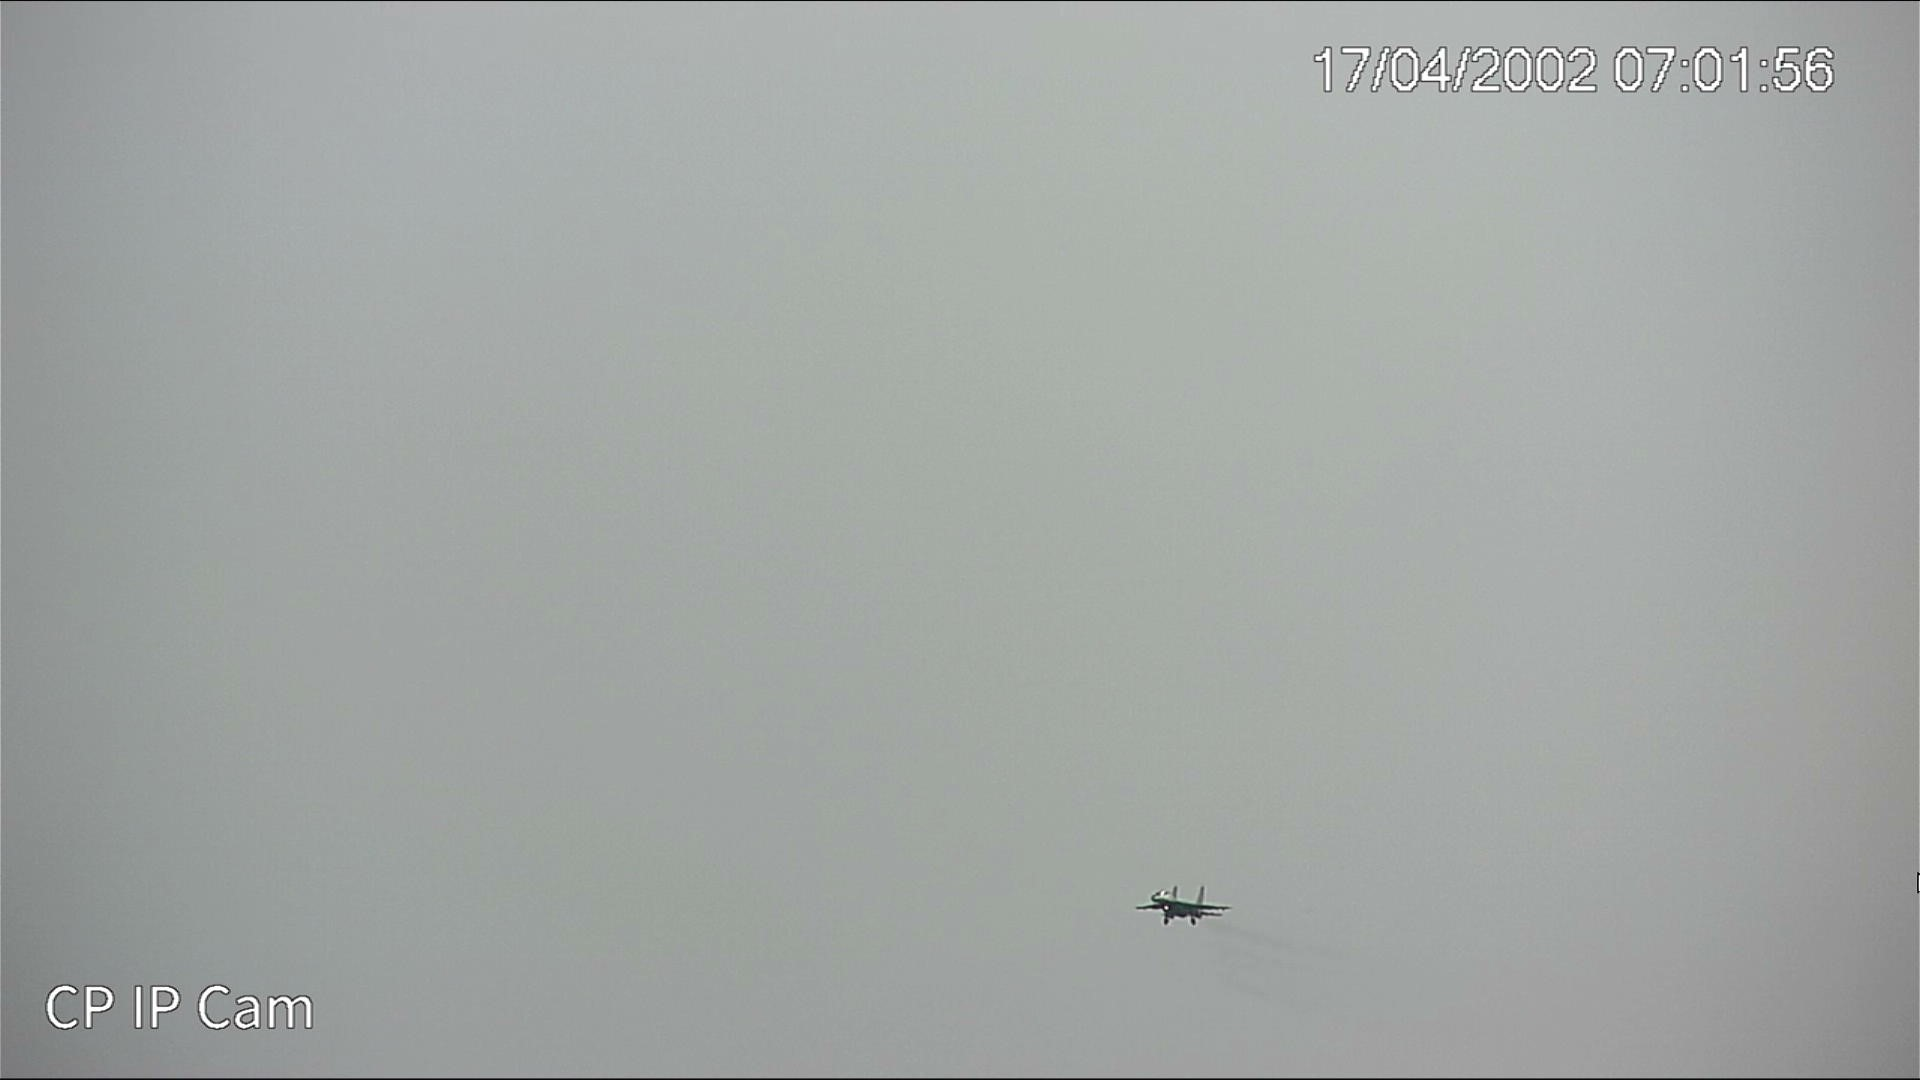SU_30: (1135, 884, 1236, 926)
